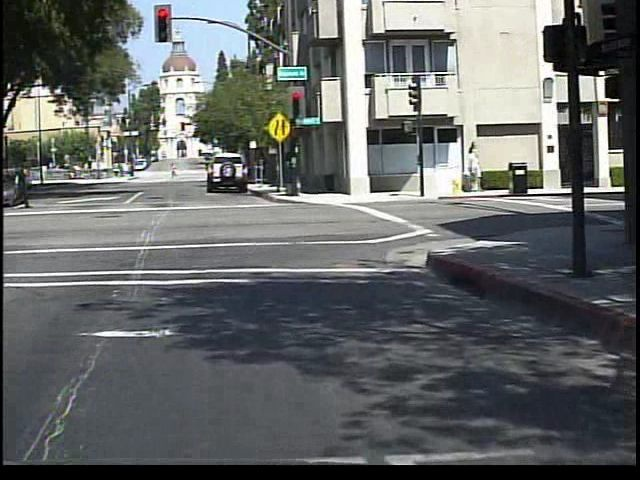person: (7, 167, 35, 223), (12, 163, 35, 210), (172, 162, 182, 180)
